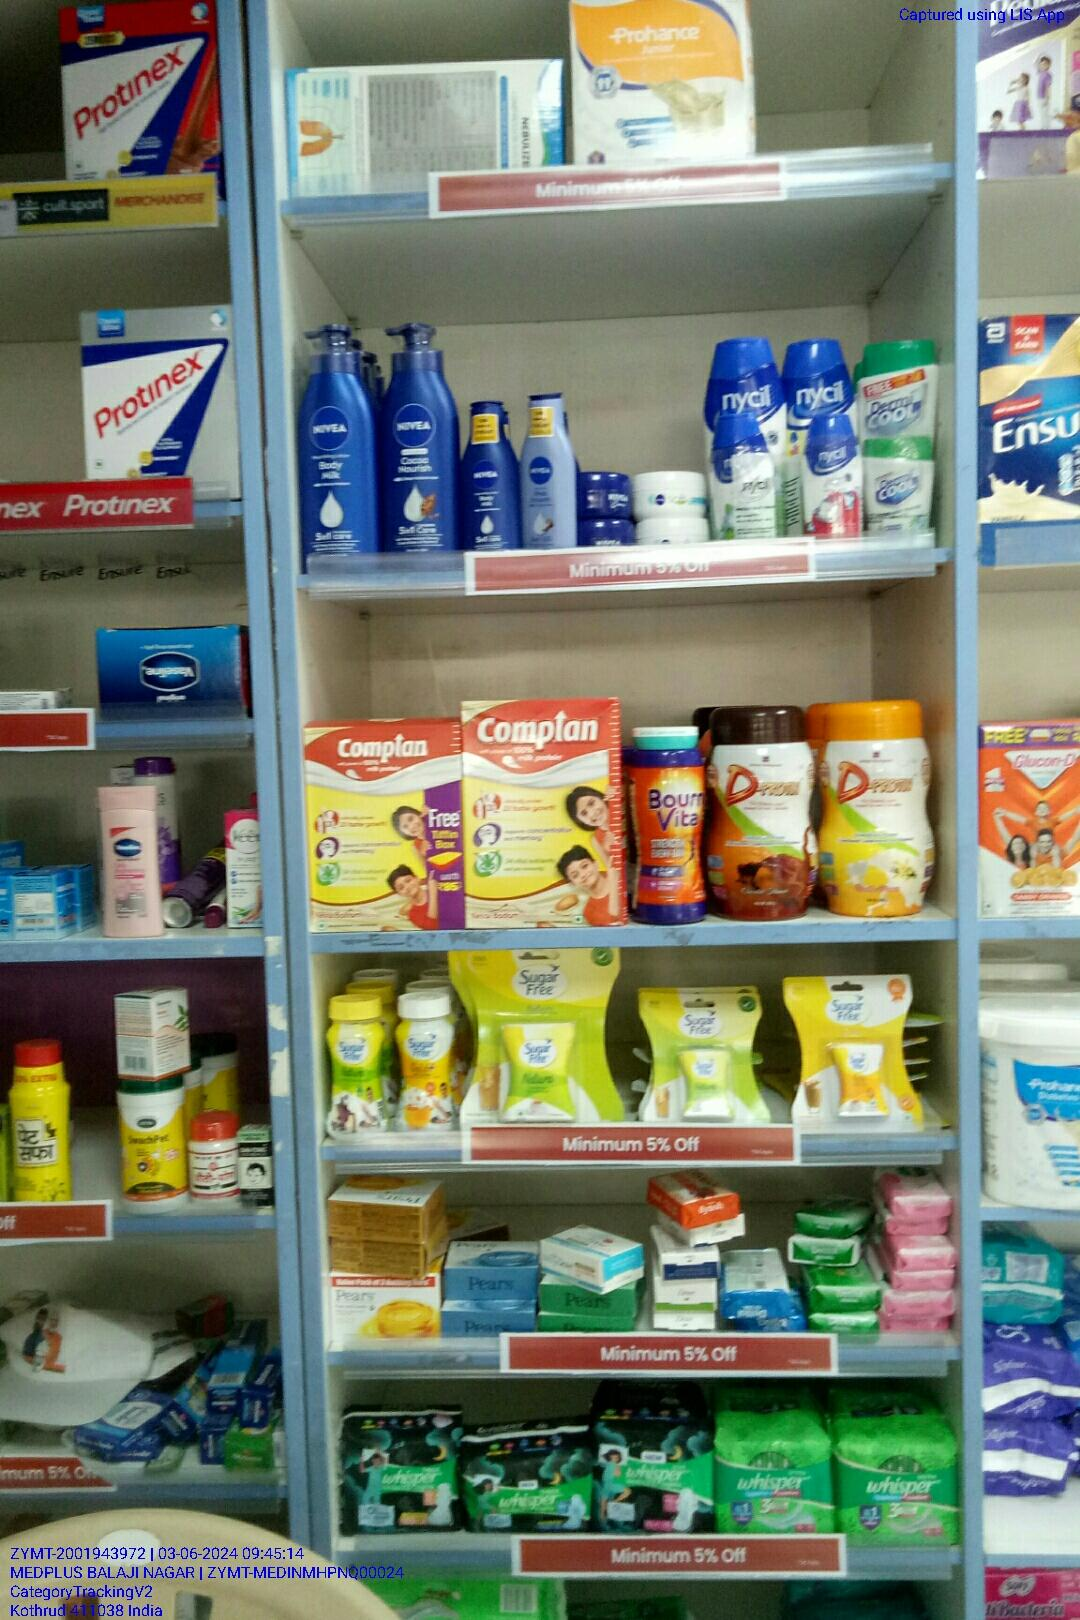BOURN_VITA_200_G_JAR: (630, 750, 704, 921)
